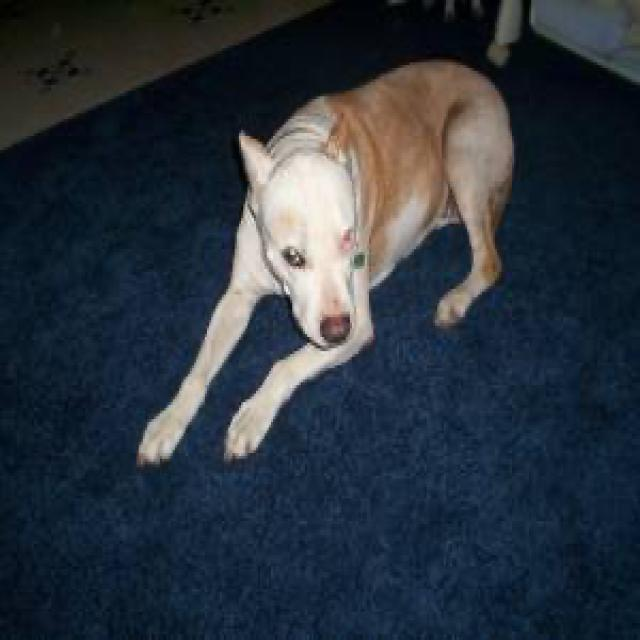dog: (235, 108, 358, 342)
